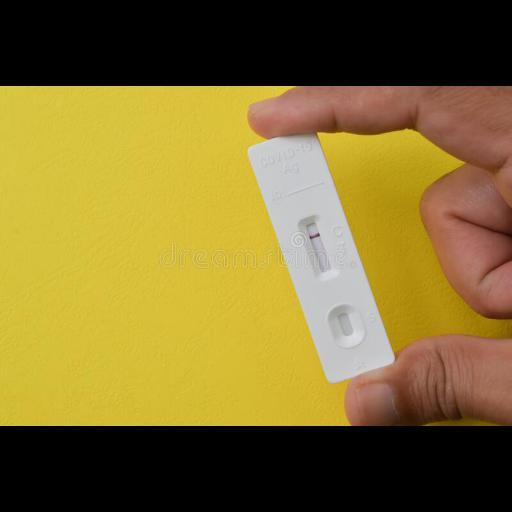Neg: (249, 124, 398, 383)
